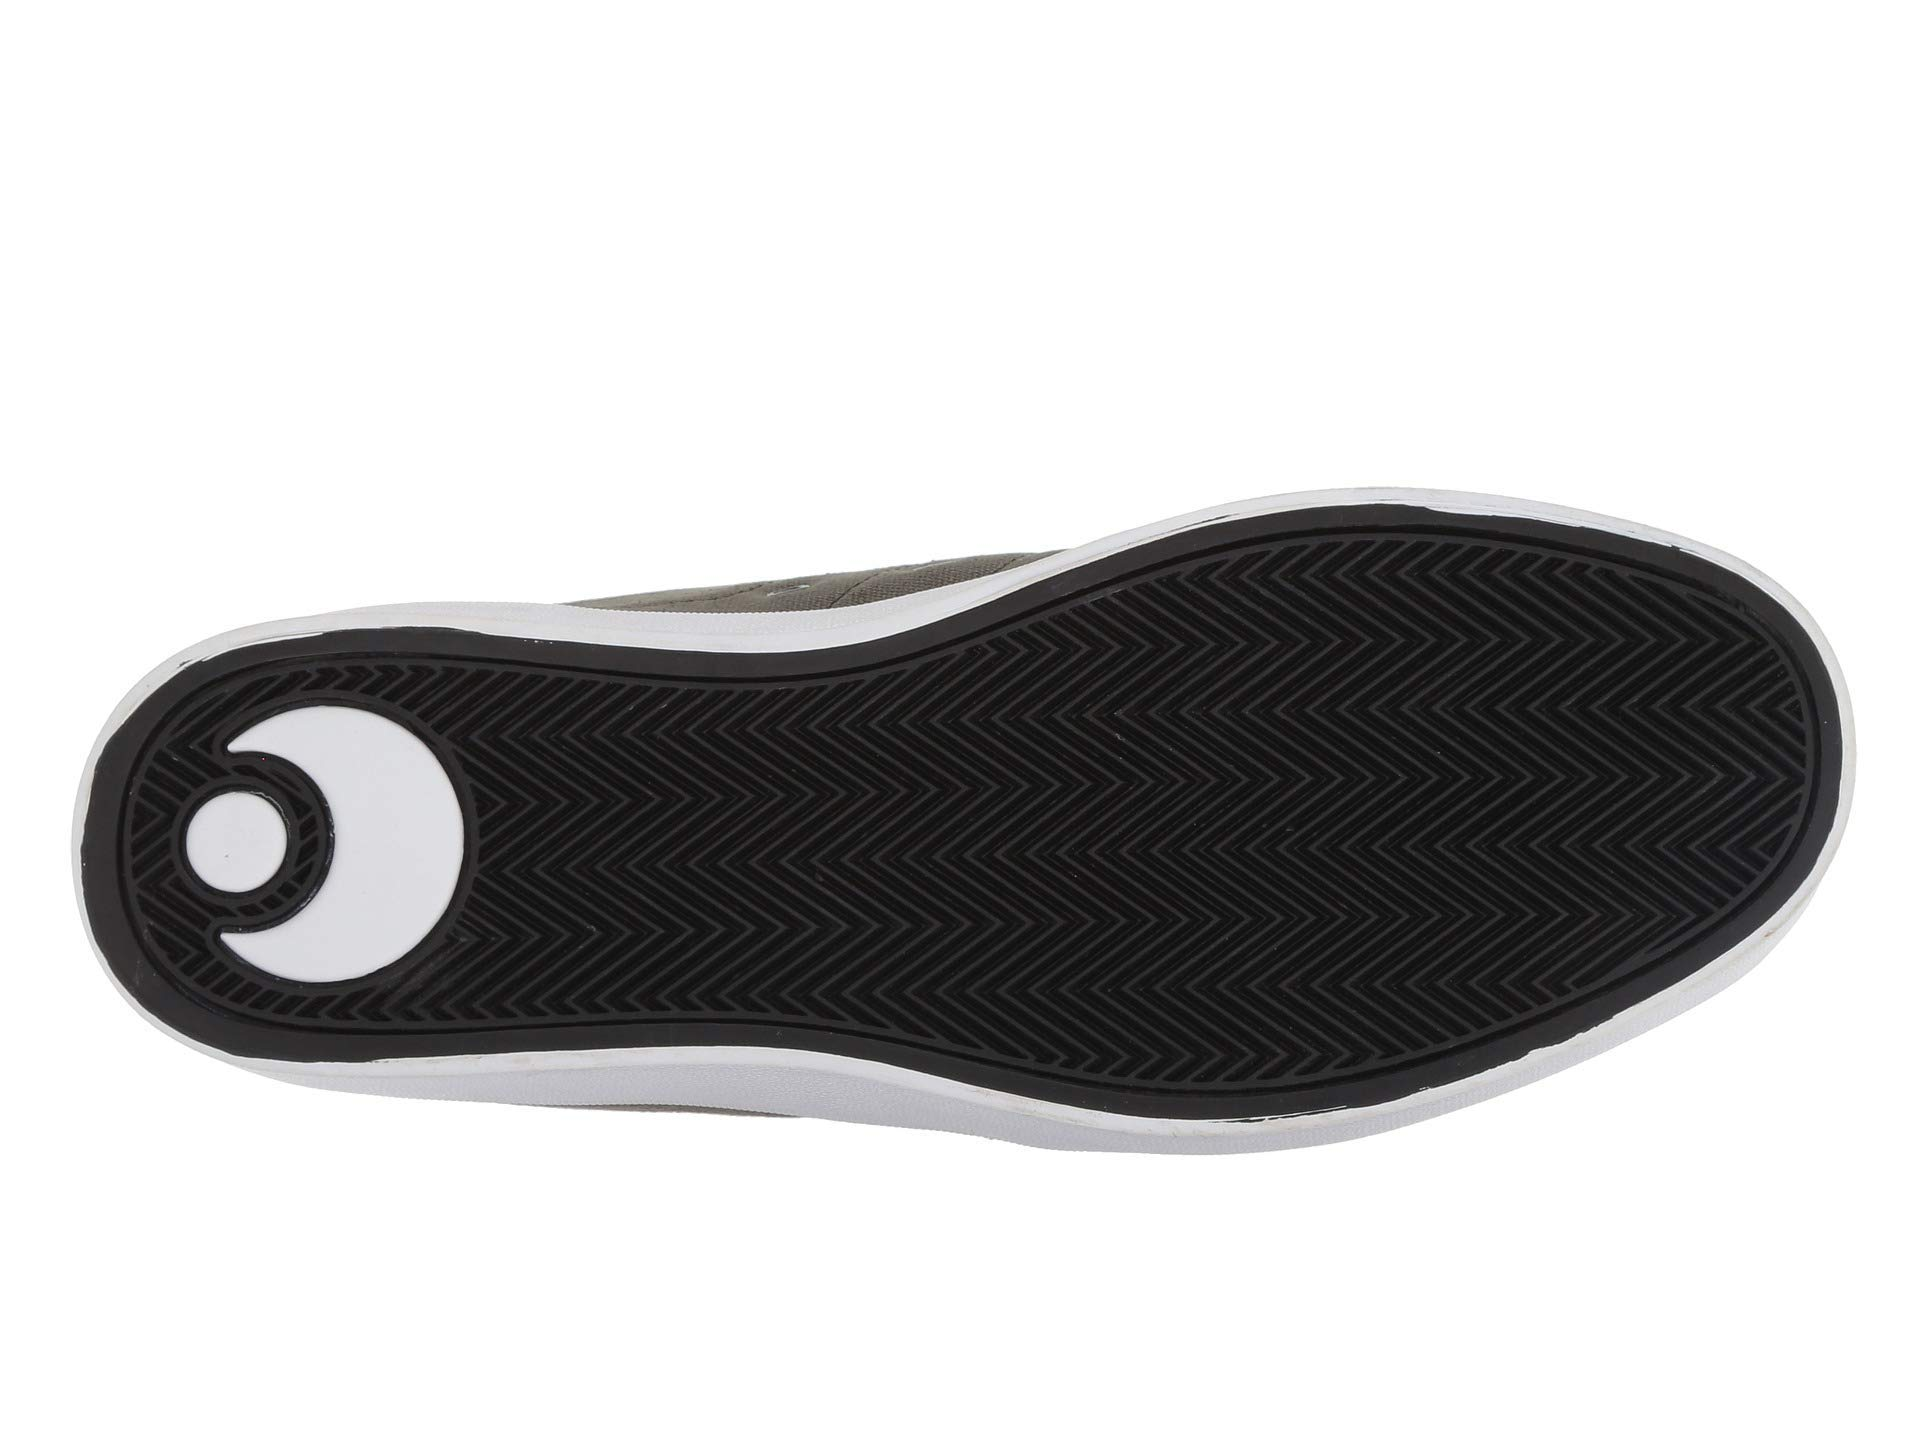chevron: (983, 605, 1406, 1038), (144, 694, 519, 1050)
circle: (144, 694, 519, 1050)
